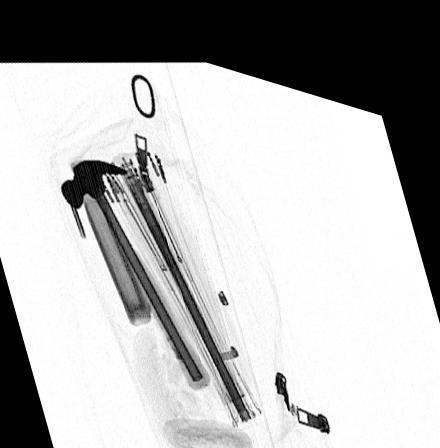Hammer: (59, 153, 211, 378)
